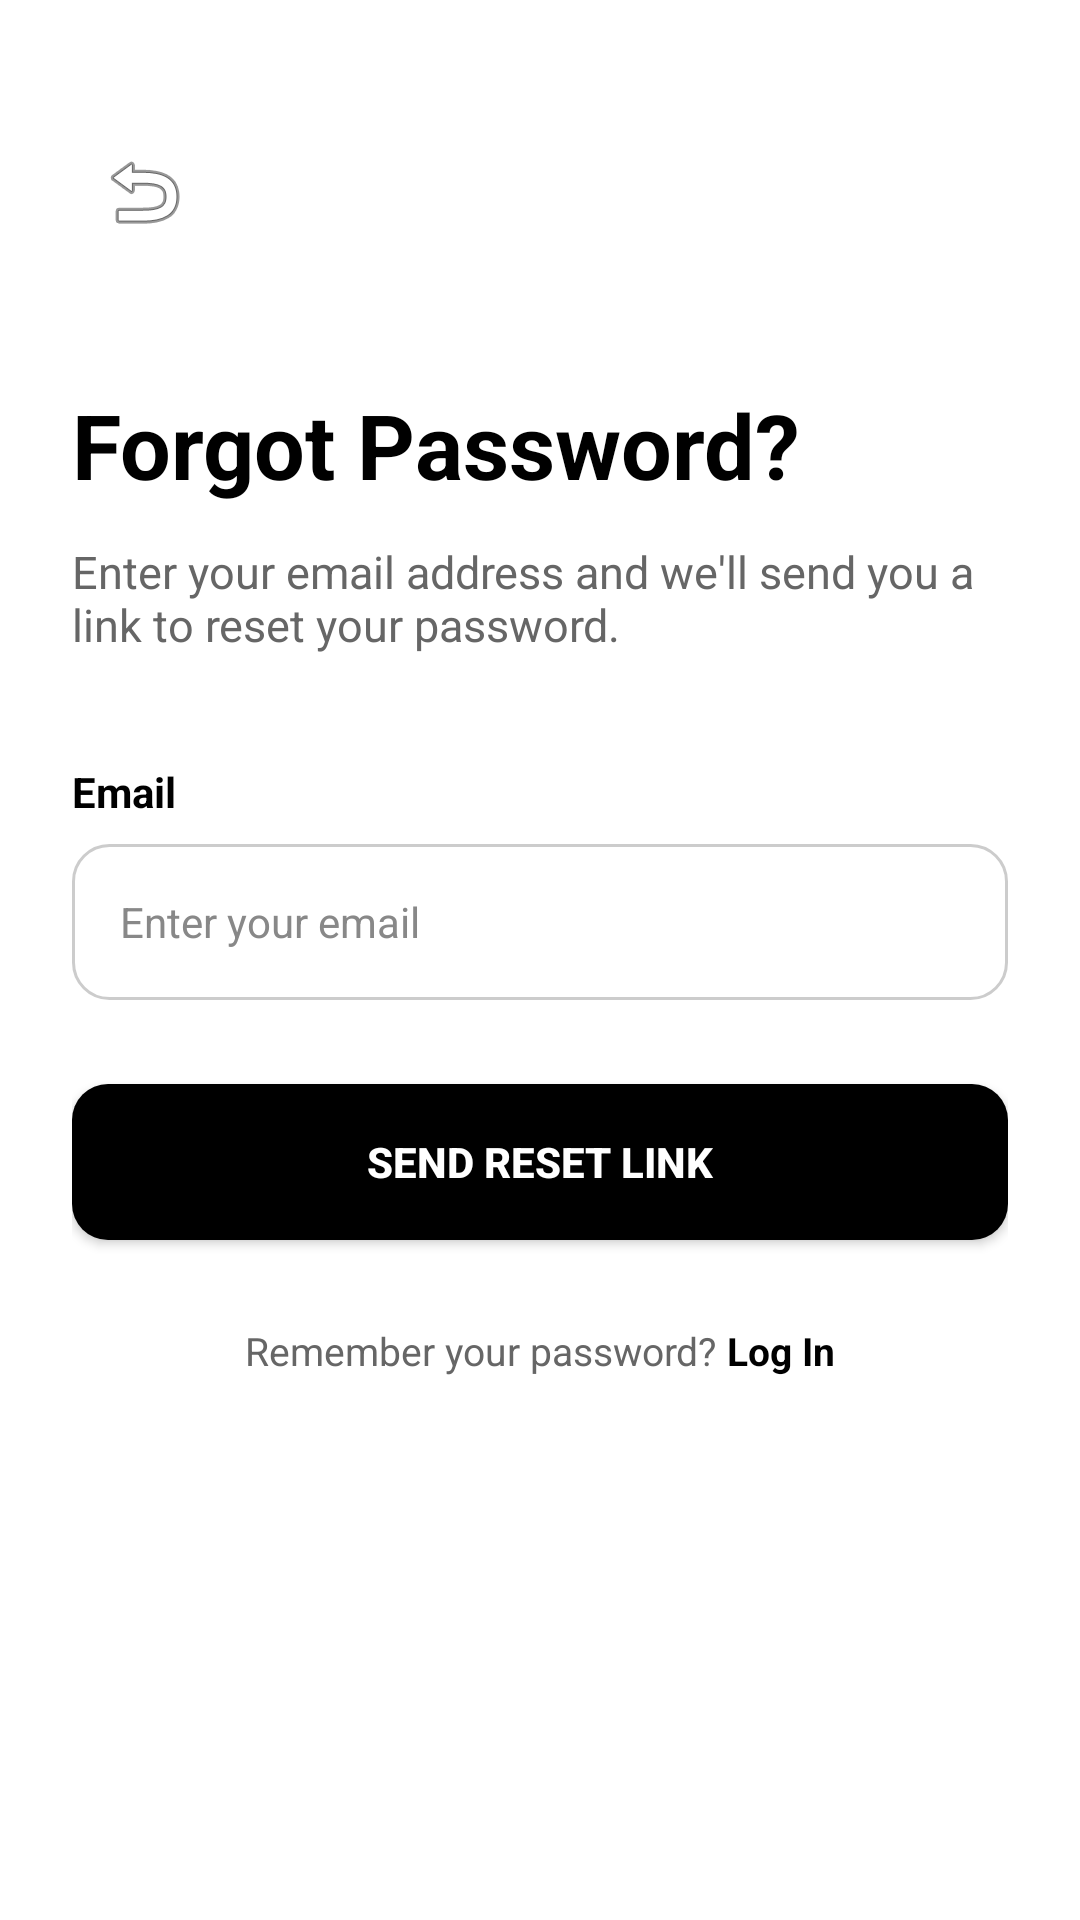

Screen size 1080*1920. Icon name, then its center in pixels as (x,y):
Back: (145,192)
